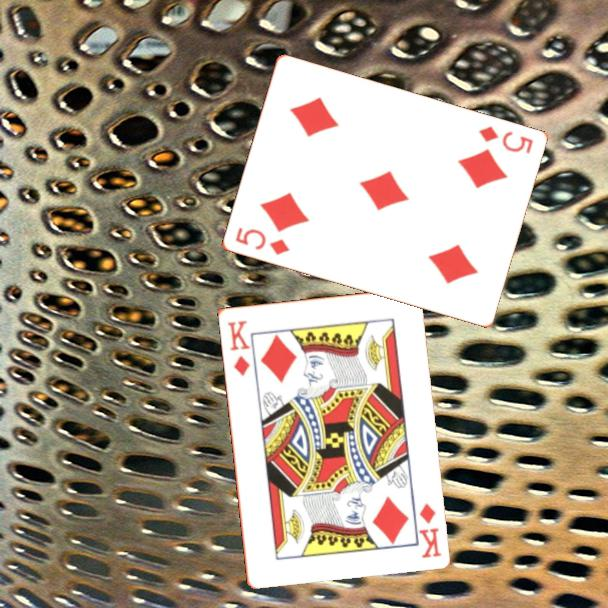d05: (231, 224, 292, 258), (475, 123, 535, 157)
d13: (415, 499, 444, 561), (224, 317, 252, 378)
